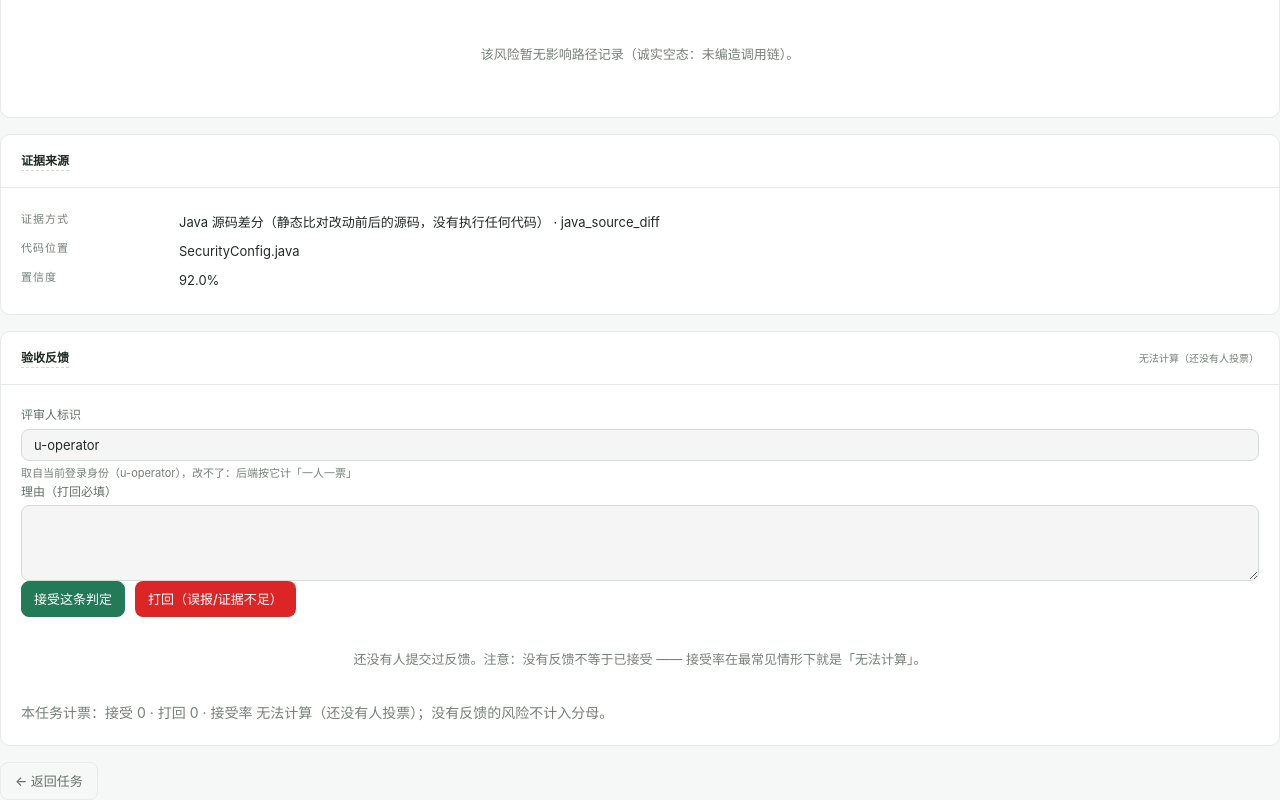
Test: FindingDetail 验收反馈入口 (#84) — Go/No-Go #13 needs a UI › refuses a rejection without a reason instead of burning a request
(page scrolled)
Step 1. Click the button "打回（误报/证据不足）" → (215, 599), box [135,581,296,617]
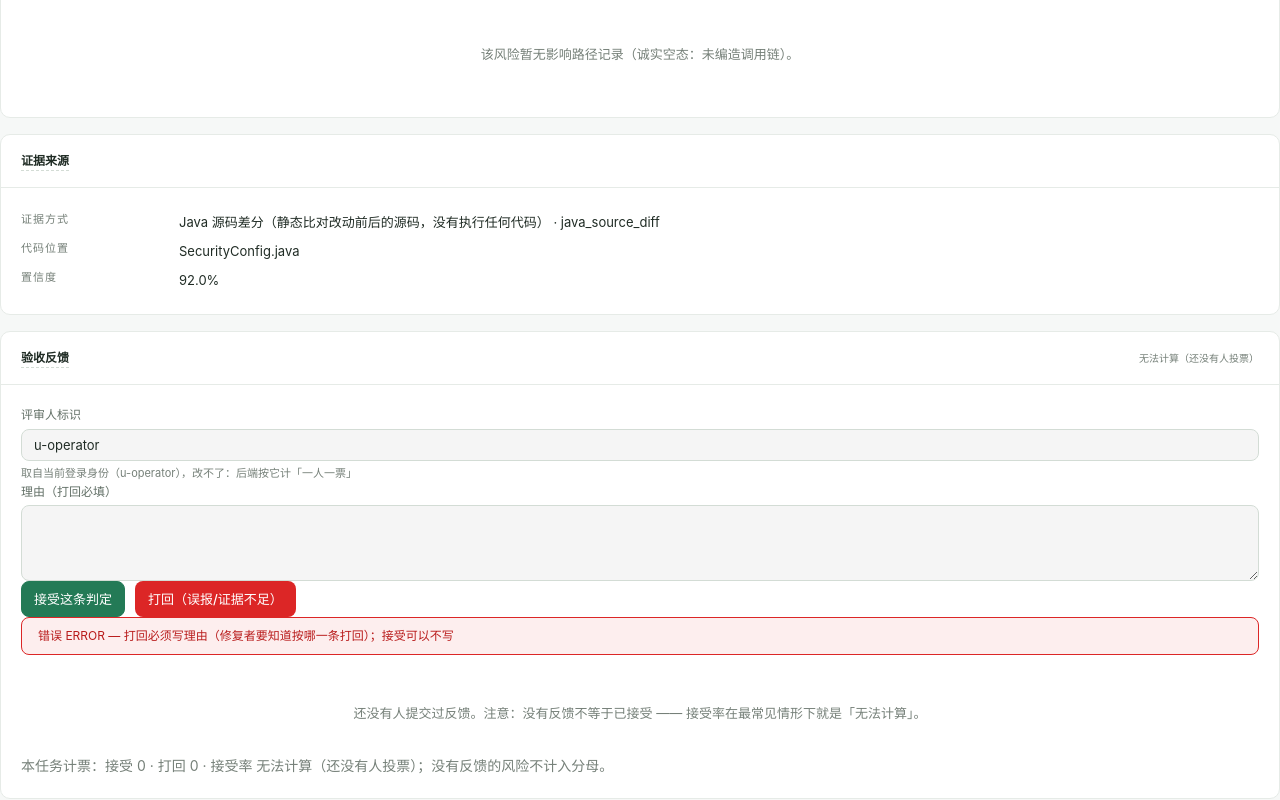
Expected: the text "错误 ERROR — 打回必须写理由（修复者要知道按哪一条打回）；接受可以不写" is shown, [21,617,1259,654]
